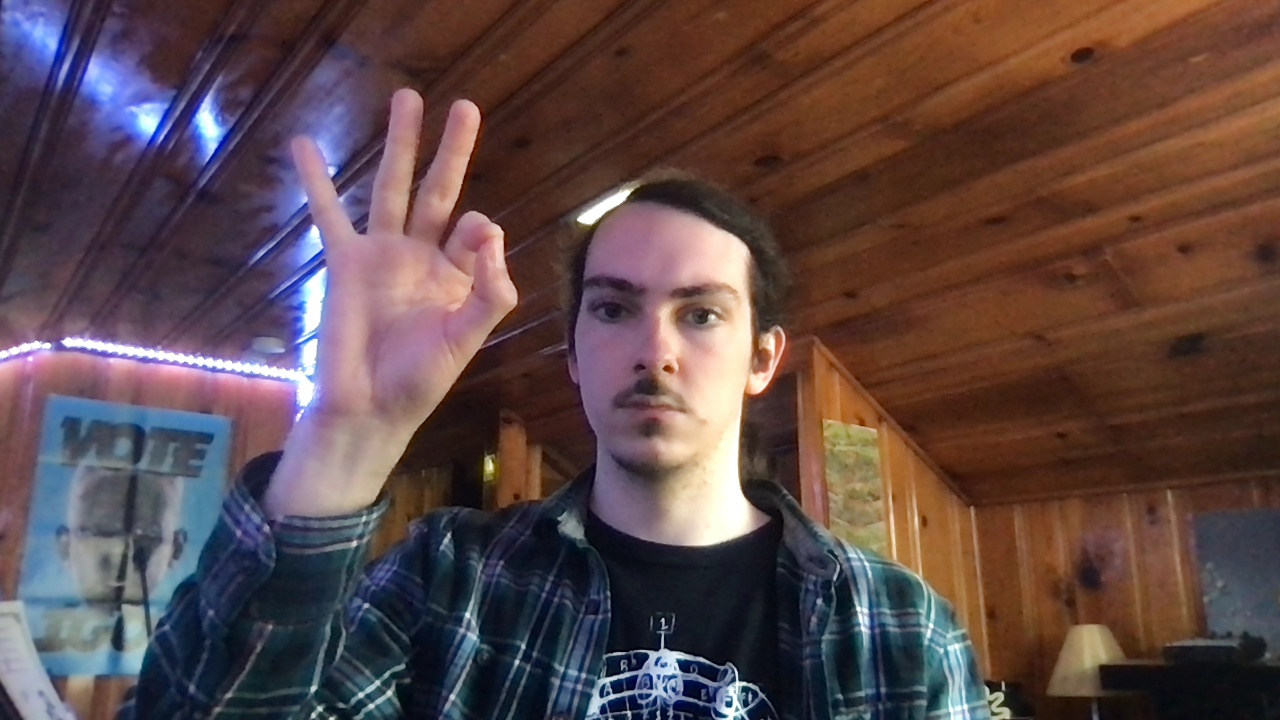f: (286, 85, 523, 422)
